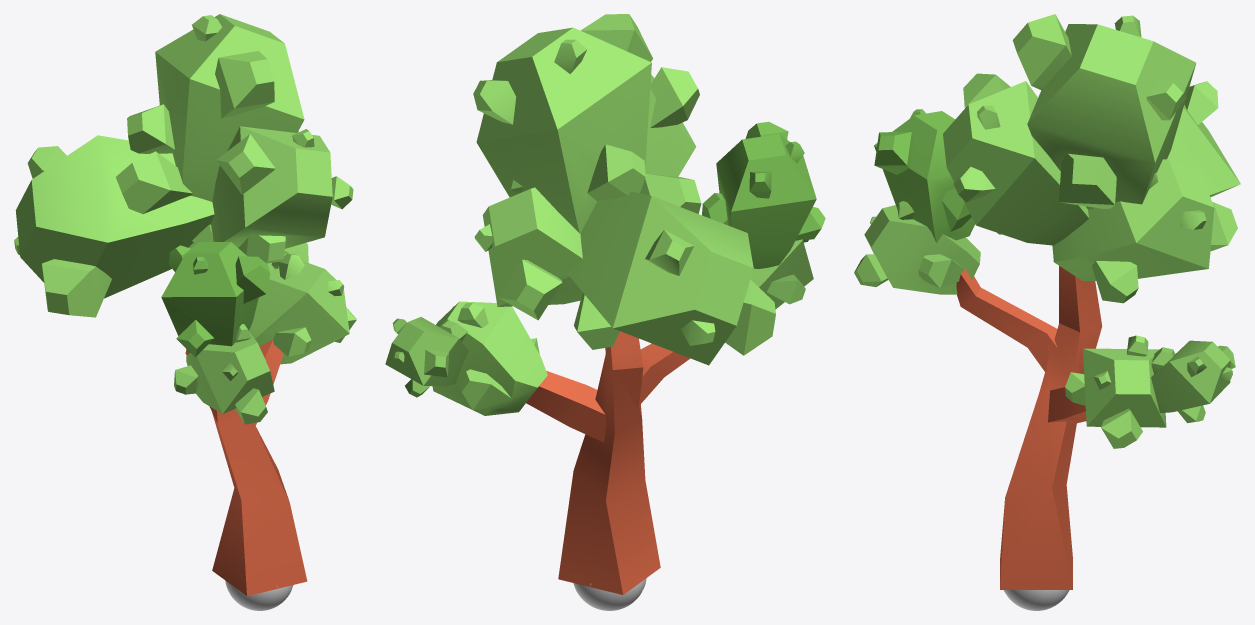
The model's file is smooth_sphere_7.glb.
3 views of the same model, side by side, from view 1: azimuth 30°, elevation 25°; view 2: azimuth 150°, elevation 25°; view 3: azimuth 270°, elevation 25° (orthographic). The views are drawn at different scales.
Parts seen in each view (by area): view 1: Tree, Sphere.001; view 2: Tree, Sphere.001; view 3: Tree, Sphere.001.
Boxes of the visible parts, left/top/right/bottom form: Tree: left=14, top=14, right=356, bottom=596; Sphere.001: left=225, top=580, right=293, bottom=610; Tree: left=385, top=14, right=825, bottom=594; Sphere.001: left=573, top=578, right=646, bottom=610; Tree: left=854, top=14, right=1240, bottom=589; Sphere.001: left=1003, top=590, right=1069, bottom=610.
Bounding box in the file's own units: 10.59 × 17.73 × 10.6.
